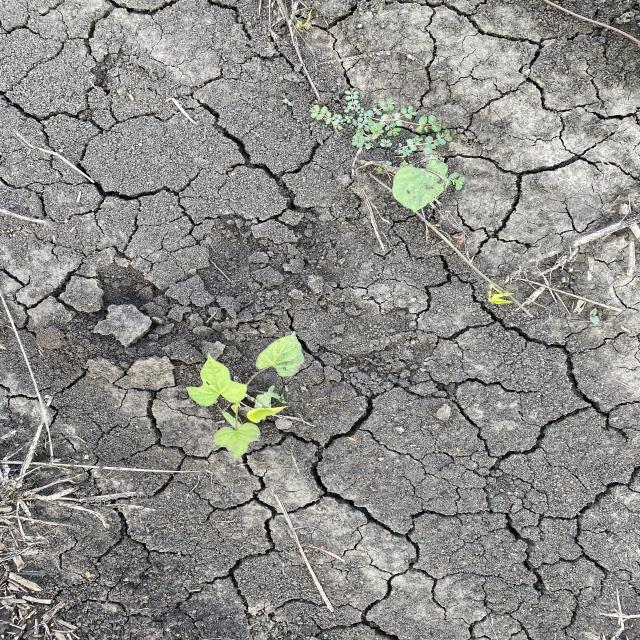MorningGlory: (186, 330, 308, 461)
SpottedSpurge: (305, 87, 457, 159)
